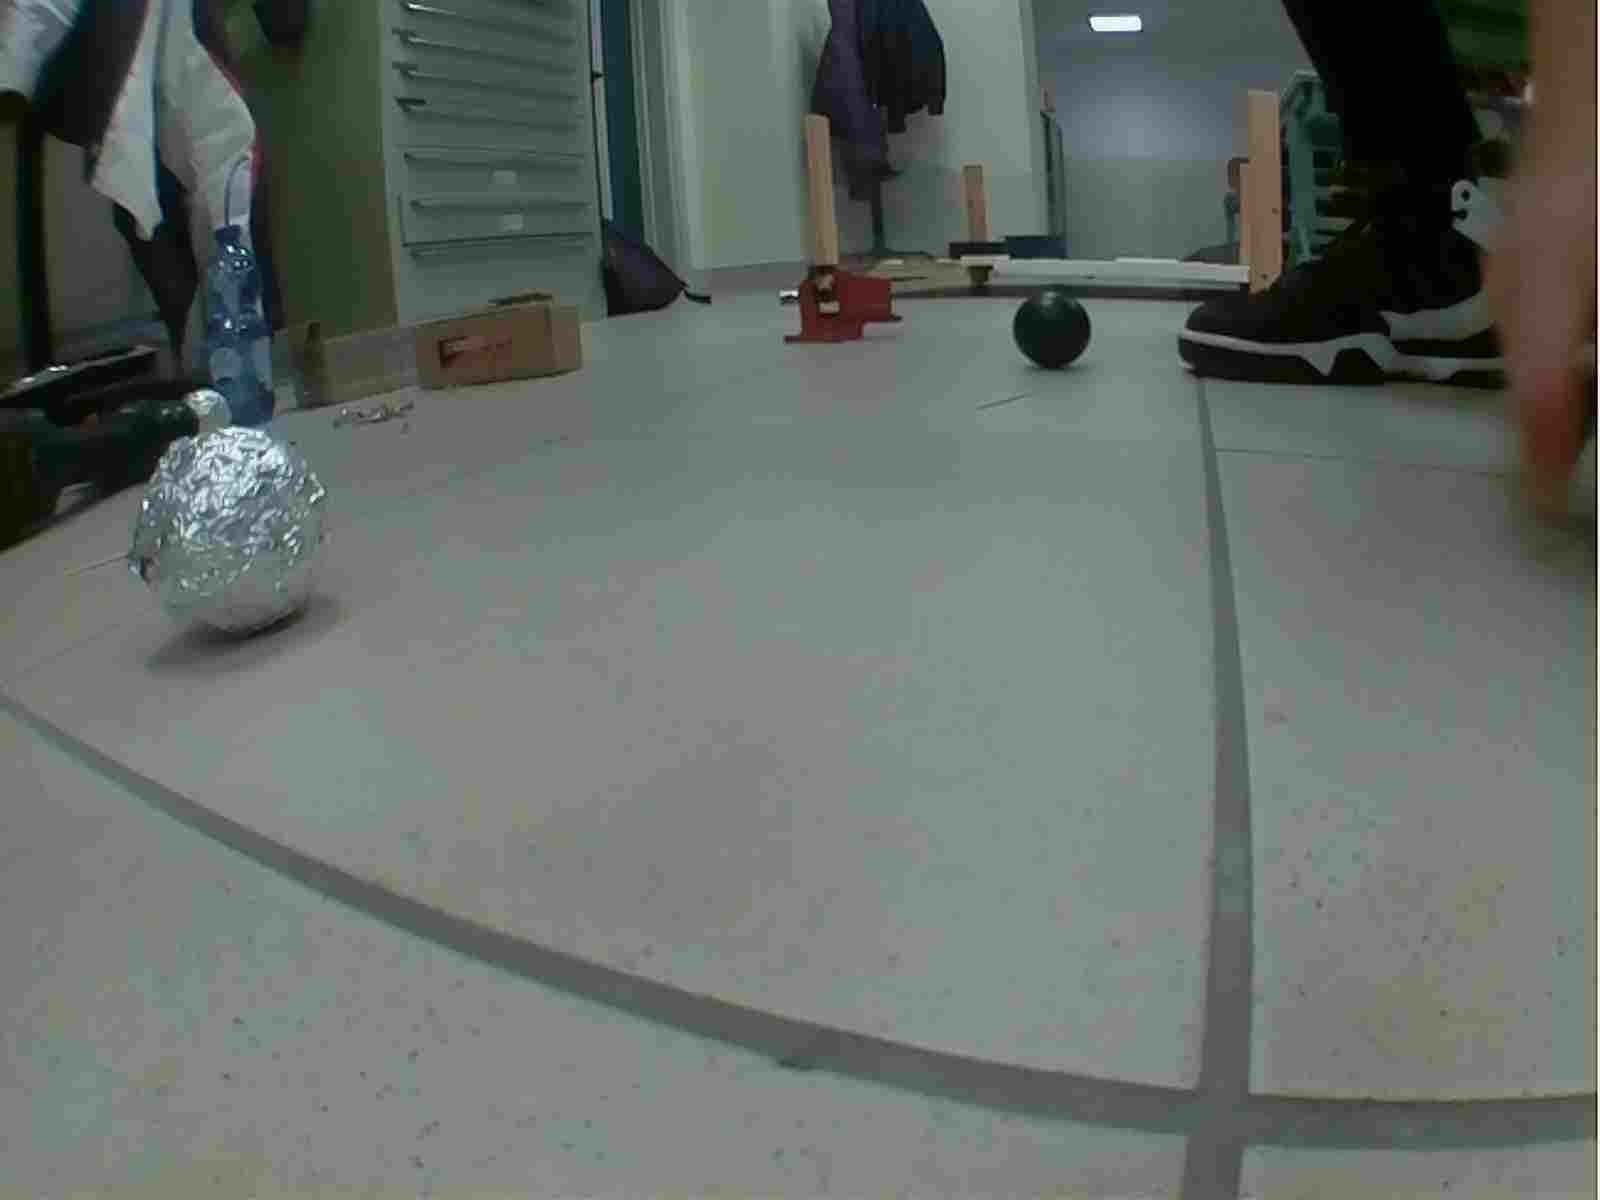bianca: (136, 424, 326, 642), (181, 388, 231, 436)
nera: (1012, 289, 1091, 369), (155, 397, 200, 444)
